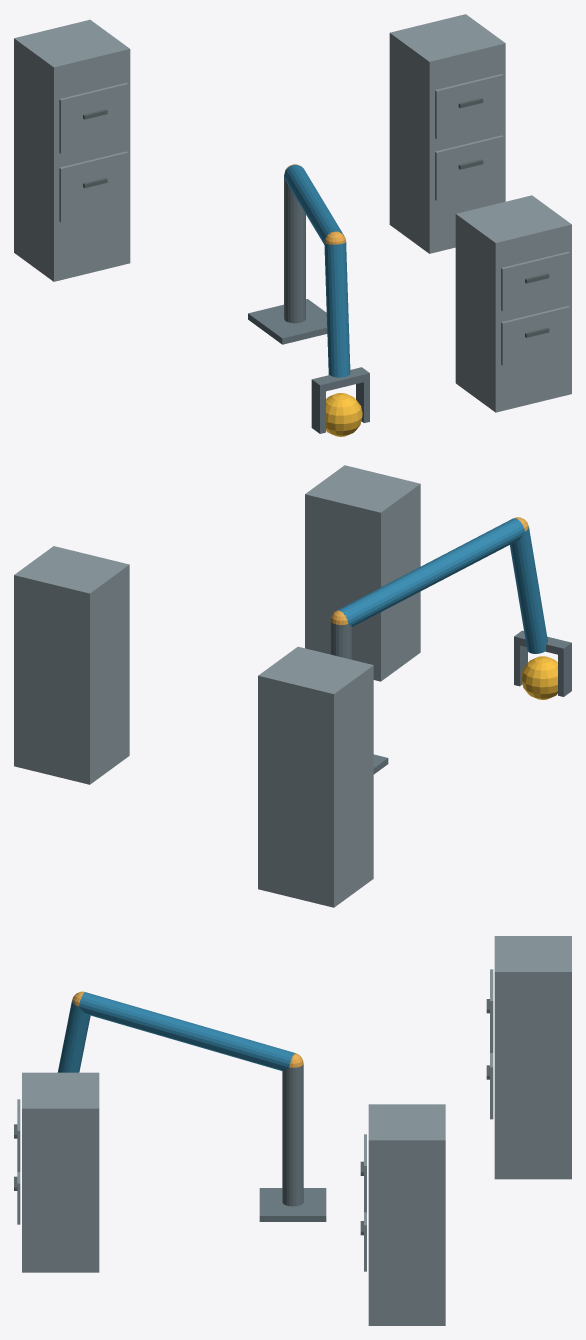
3 views of the same model, one above another, from view 1: azimuth 30°, elevation 25°; view 2: azimuth 150°, elevation 25°; view 3: azimuth 270°, elevation 25° (orthographic). The views are drawn at different scales.
Parts seen in each view (by area): view 1: cabinet_3 body, cabinet_2 body, cabinet_1 body, cabinet_3 drawer front, cabinet_3 drawer front.001, cabinet_2 drawer front, cabinet_2 drawer front.001, moving link 2, cabinet_1 drawer front.001, cabinet_1 drawer front, fixed post, pedestal (+4 smaller); view 2: cabinet_3 body, cabinet_2 body, cabinet_1 body, moving link 1, moving link 2, ball ball_1, fixed post, gripper finger -1; view 3: cabinet_3 body, cabinet_2 body, cabinet_1 body, moving link 1, fixed post, pedestal, moving link 2.
Boxes of the visible parts, <box> form: cabinet_3 body: <box>14,19,130,281</box>; cabinet_2 body: <box>389,14,505,253</box>; cabinet_1 body: <box>455,195,571,412</box>; cabinet_3 drawer front: <box>59,151,127,222</box>; cabinet_3 drawer front.001: <box>59,82,127,153</box>; cabinet_2 drawer front: <box>435,135,503,200</box>; cabinet_2 drawer front.001: <box>435,74,503,139</box>; moving link 2: <box>324,242,350,377</box>; cabinet_1 drawer front.001: <box>501,252,569,311</box>; cabinet_1 drawer front: <box>501,306,569,365</box>; fixed post: <box>284,175,305,323</box>; pedestal: <box>248,299,327,344</box>; cabinet_3 body: <box>258,646,373,907</box>; cabinet_2 body: <box>14,546,129,784</box>; cabinet_1 body: <box>305,465,420,681</box>; moving link 1: <box>336,518,524,626</box>; moving link 2: <box>510,526,547,653</box>; ball ball_1: <box>521,656,557,699</box>; fixed post: <box>330,622,352,659</box>; gripper finger -1: <box>558,650,571,696</box>; cabinet_3 body: <box>494,936,571,1179</box>; cabinet_2 body: <box>368,1104,445,1325</box>; cabinet_1 body: <box>22,1072,99,1272</box>; moving link 1: <box>79,992,295,1071</box>; fixed post: <box>282,1064,303,1206</box>; pedestal: <box>259,1188,326,1221</box>; moving link 2: <box>57,1000,90,1072</box>.
Size of the model in its own units: 1.62 by 0.86 by 2.1.
